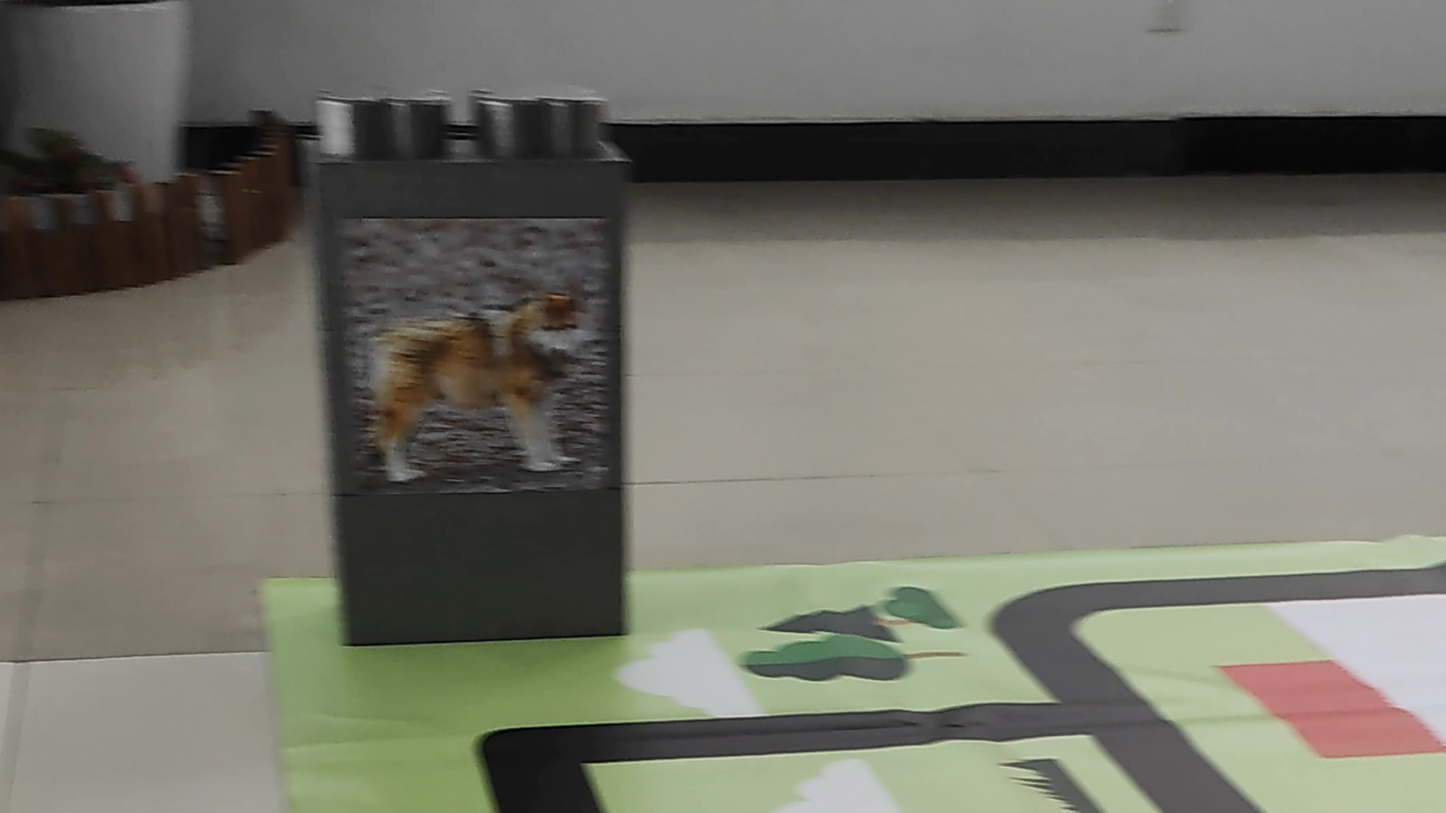wolf: (346, 243, 610, 509)
